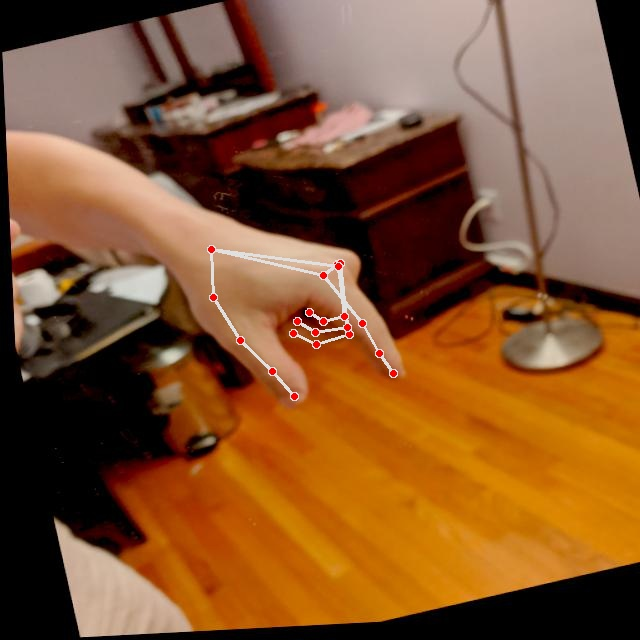Q: (159, 188, 419, 439)
